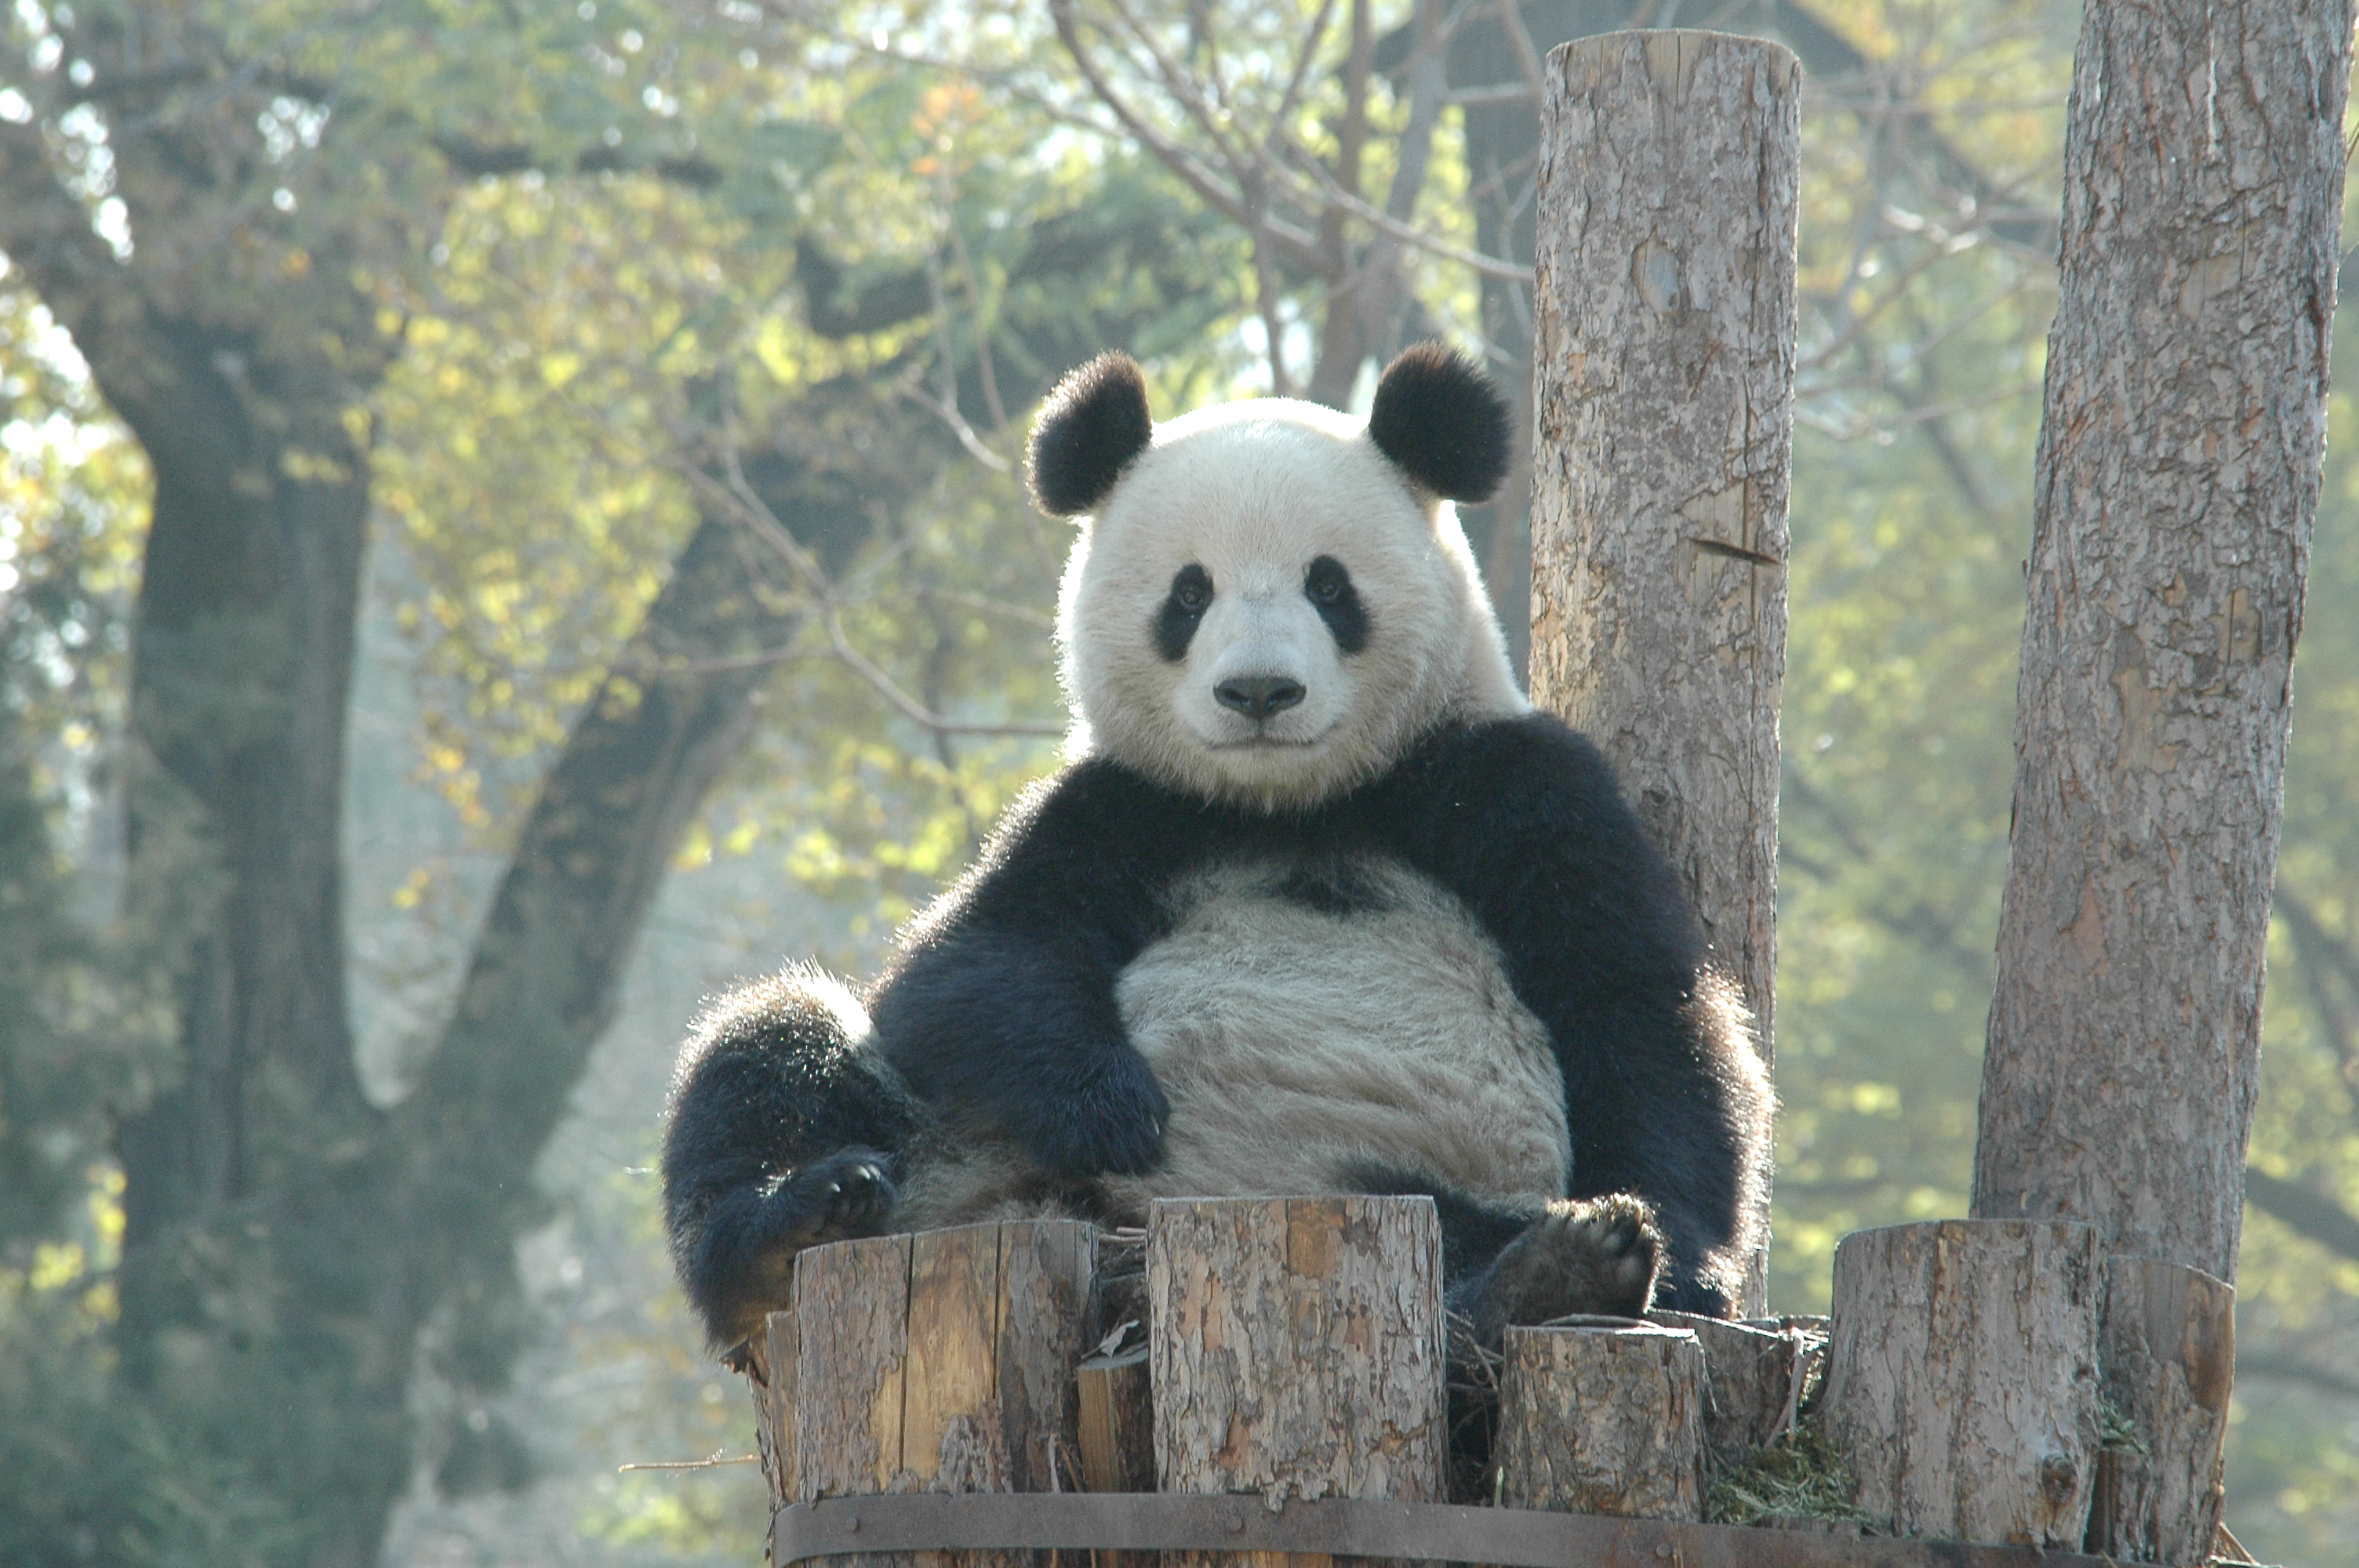panda: (718, 352, 1825, 1379)
